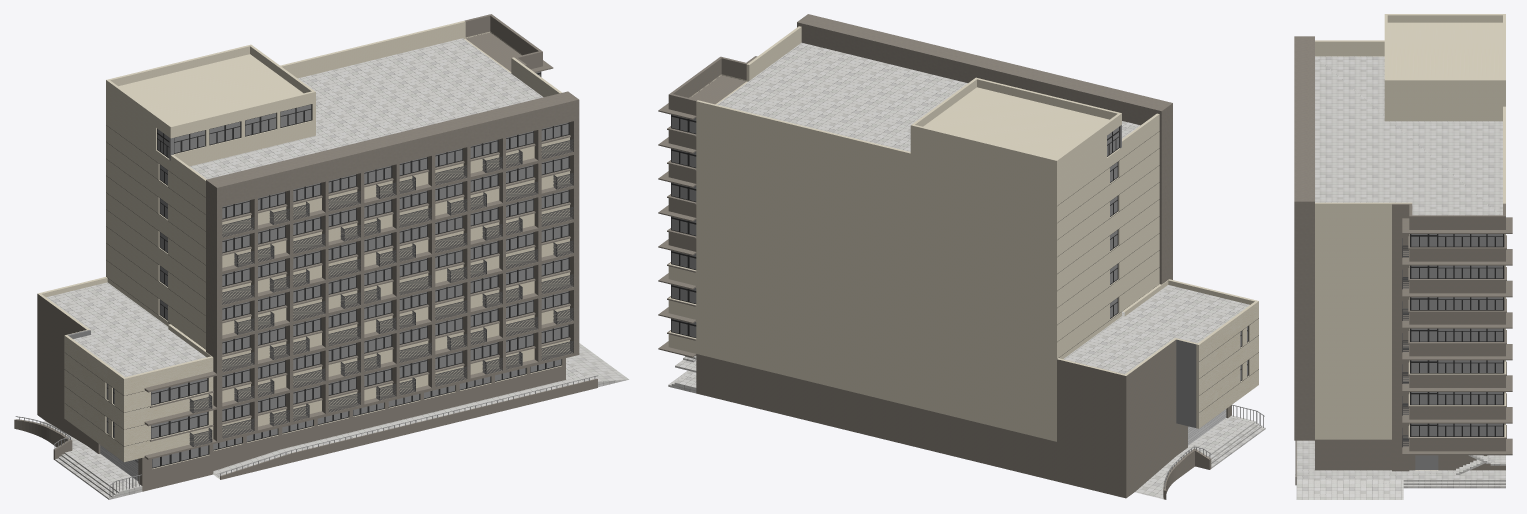
Rendered from gzl_heyilou.FBX.
3 views of the same model, side by side, from view 1: azimuth 30°, elevation 25°; view 2: azimuth 150°, elevation 25°; view 3: azimuth 270°, elevation 25° (orthographic). The views are drawn at different scales.
Parts seen in each view (by area): view 1: gzl_heyilou, Rectangle002, Rectangle013, Rectangle010, Group52, Rectangle012, Rectangle015, Line385, Line383; view 2: gzl_heyilou, Rectangle010, Rectangle002, Rectangle015, Rectangle016, Line385, Rectangle012; view 3: gzl_heyilou, Rectangle010, Rectangle002.
Boxes of the visible parts, x1,y1,x2,y2 form: gzl_heyilou: (14,14,628,499); Rectangle002: (206,91,579,443); Rectangle013: (222,137,569,435); Rectangle010: (190,38,543,179); Group52: (222,135,570,424); Rectangle012: (122,356,213,462); Rectangle015: (64,335,123,460); Line385: (64,125,211,446); Line383: (219,375,598,476); gzl_heyilou: (658,26,1265,499); Rectangle010: (717,42,1140,151); Rectangle002: (797,14,1172,284); Rectangle015: (1196,301,1257,428); Rectangle016: (1176,339,1196,427); Line385: (1057,131,1258,412); Rectangle012: (1168,279,1258,385); gzl_heyilou: (1295,14,1512,499); Rectangle010: (1315,56,1502,215); Rectangle002: (1294,36,1314,440).
Bounding box in the file's own units: 47874 × 28300 × 18820.
